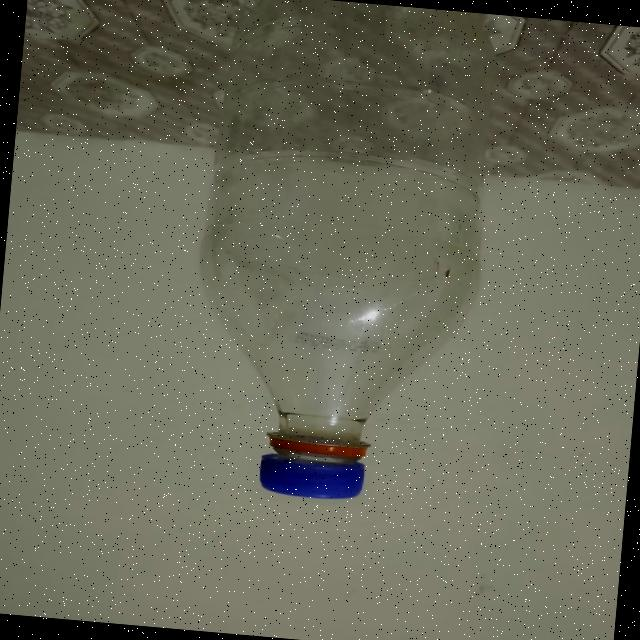bottle: (183, 0, 494, 509)
cap: (258, 432, 369, 502)
